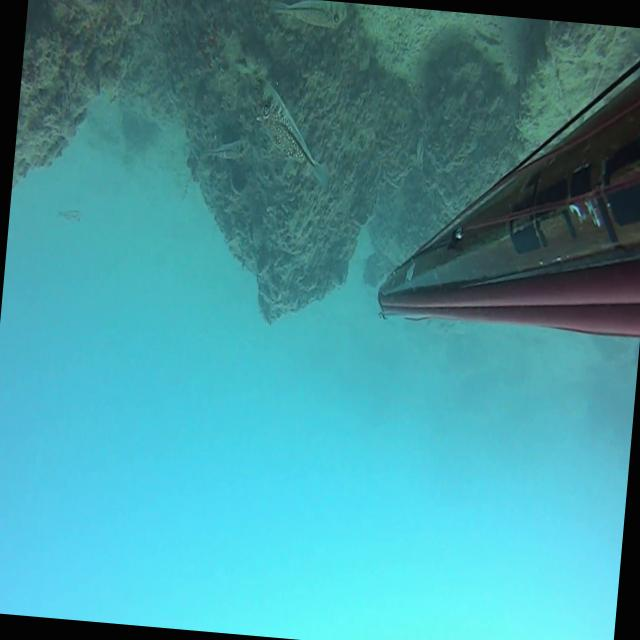Balon Baligi: (246, 73, 335, 190), (269, 0, 346, 28), (198, 132, 249, 158), (56, 206, 82, 221)
